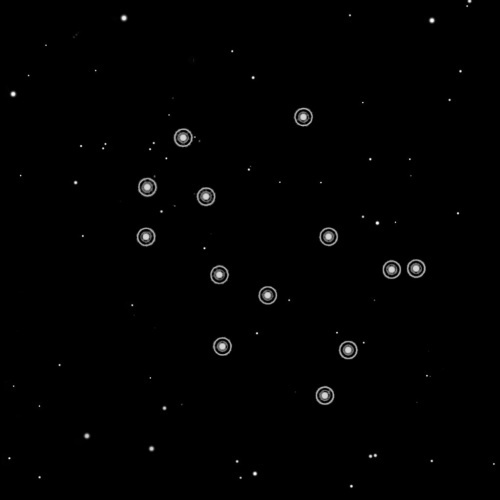gemini: (127, 105, 431, 410)
